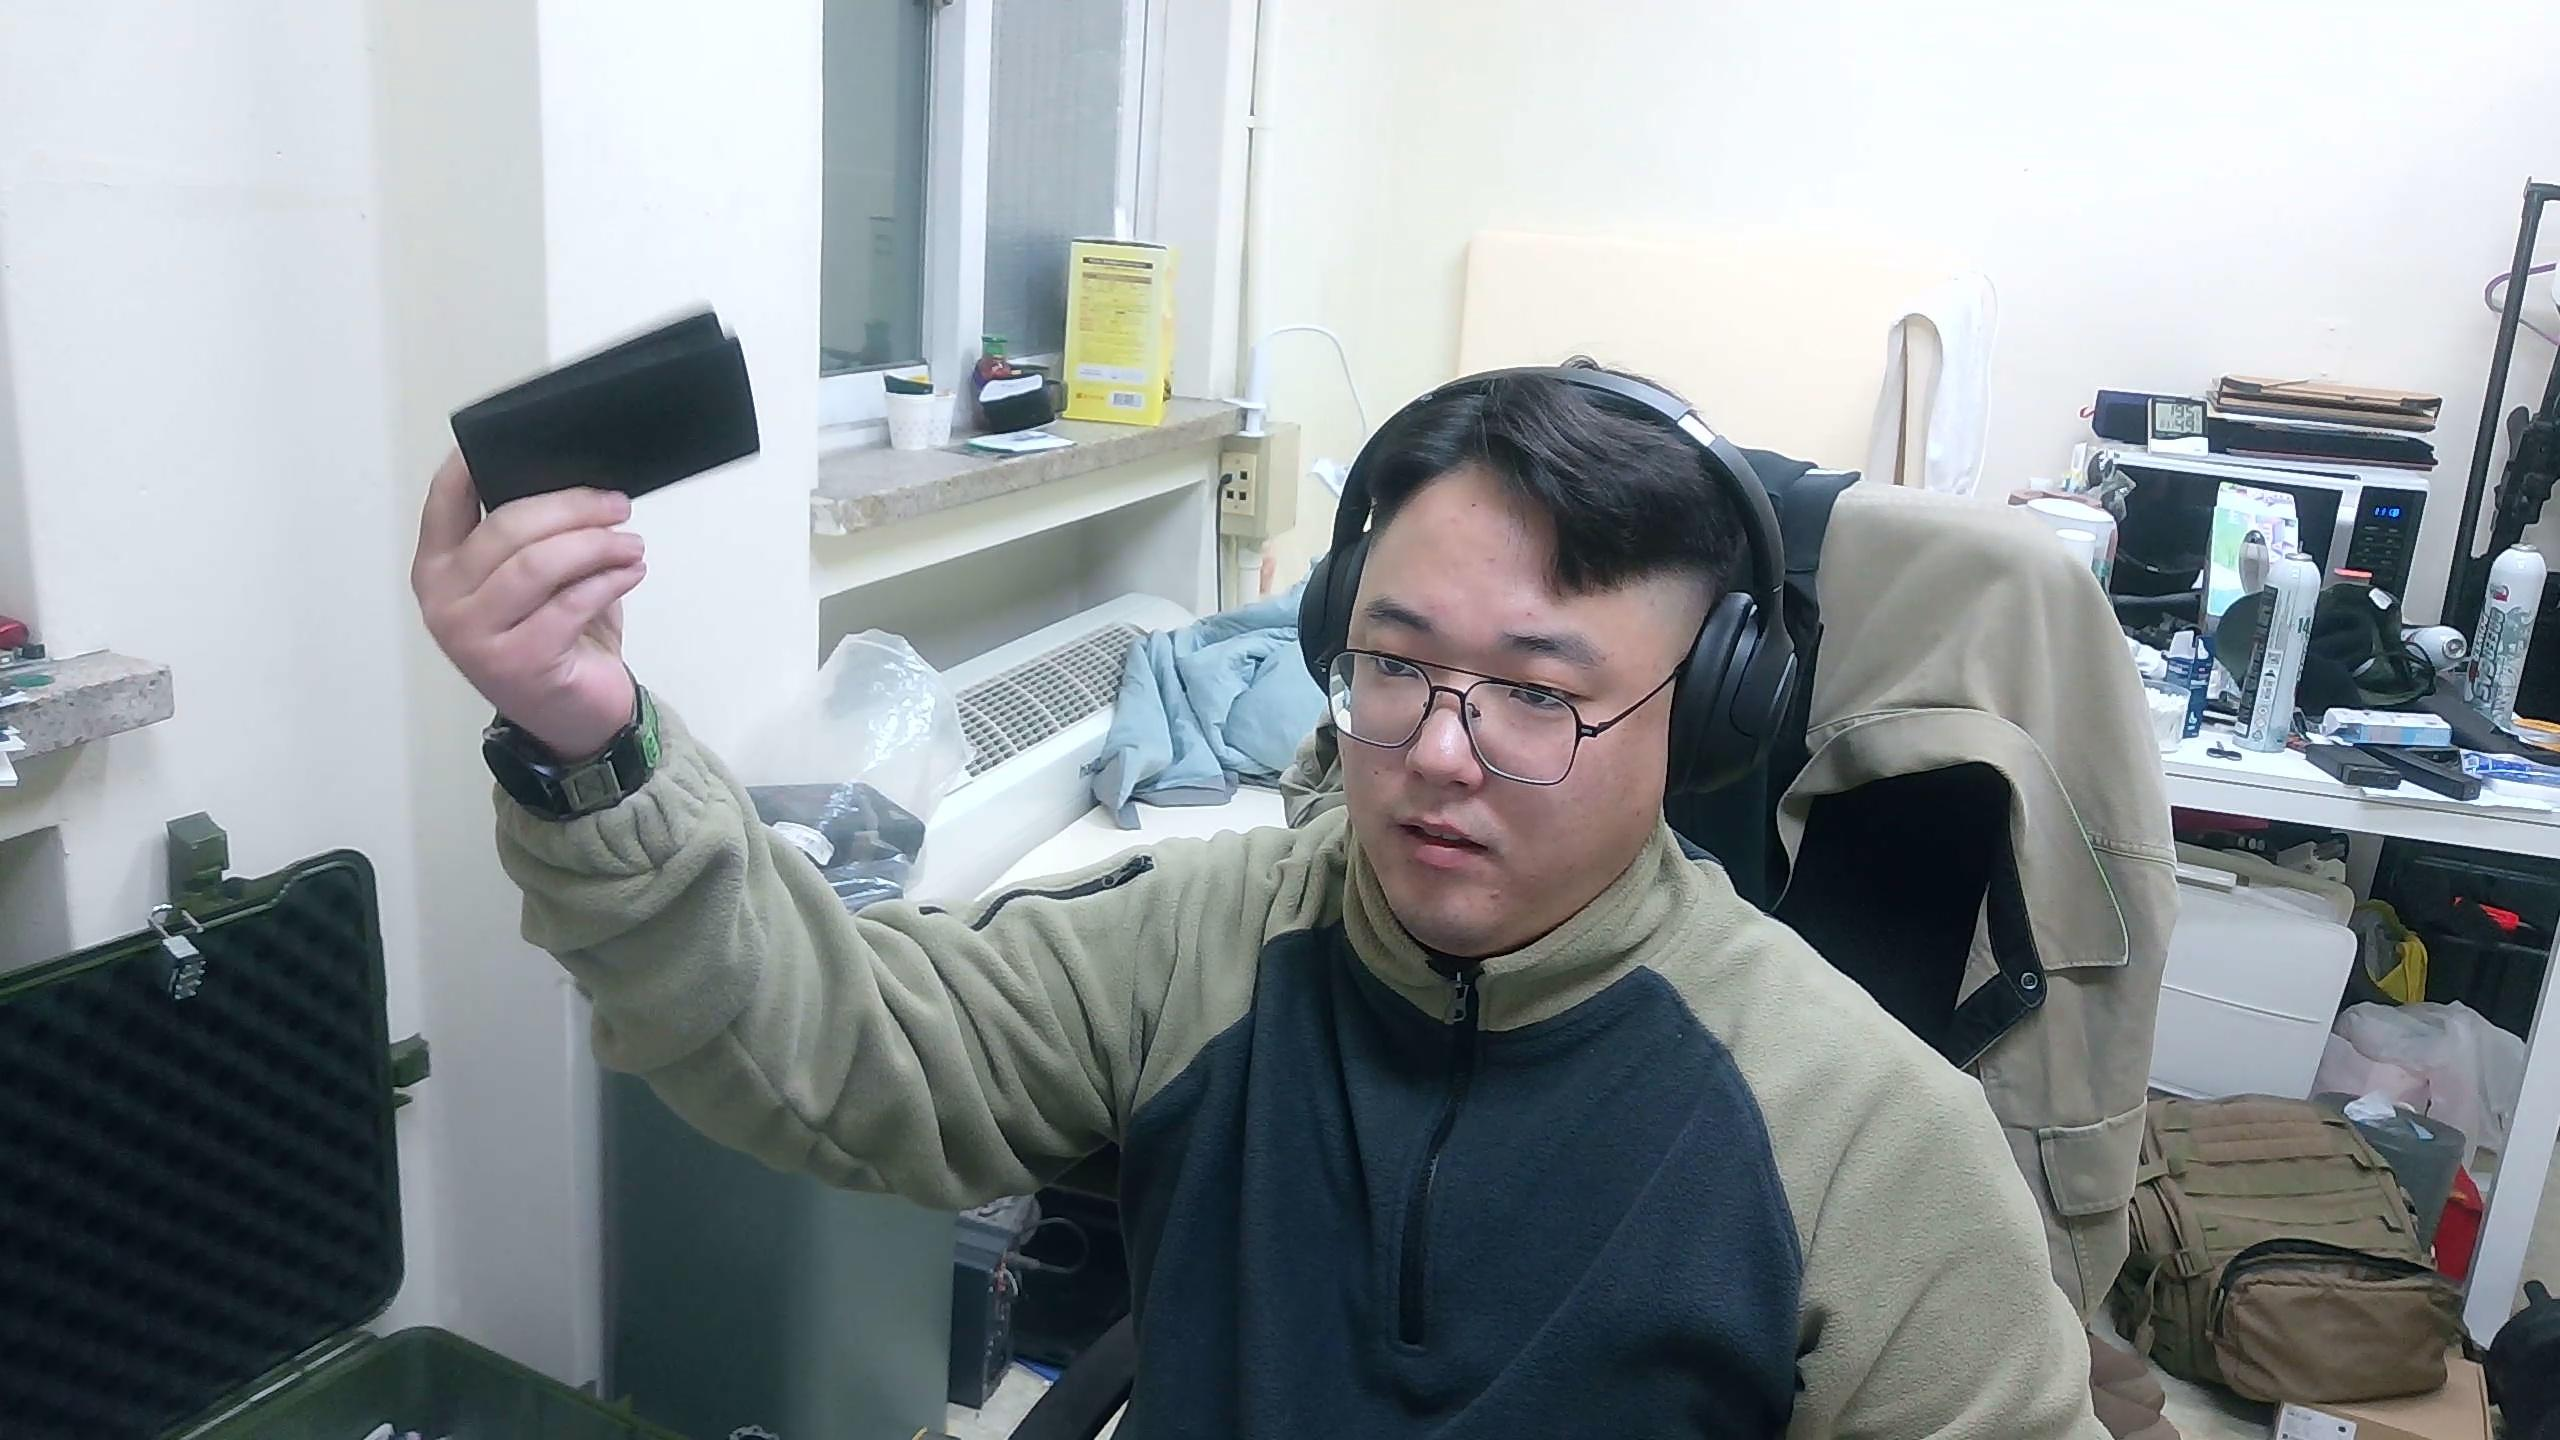earphone: (450, 306, 765, 517)
